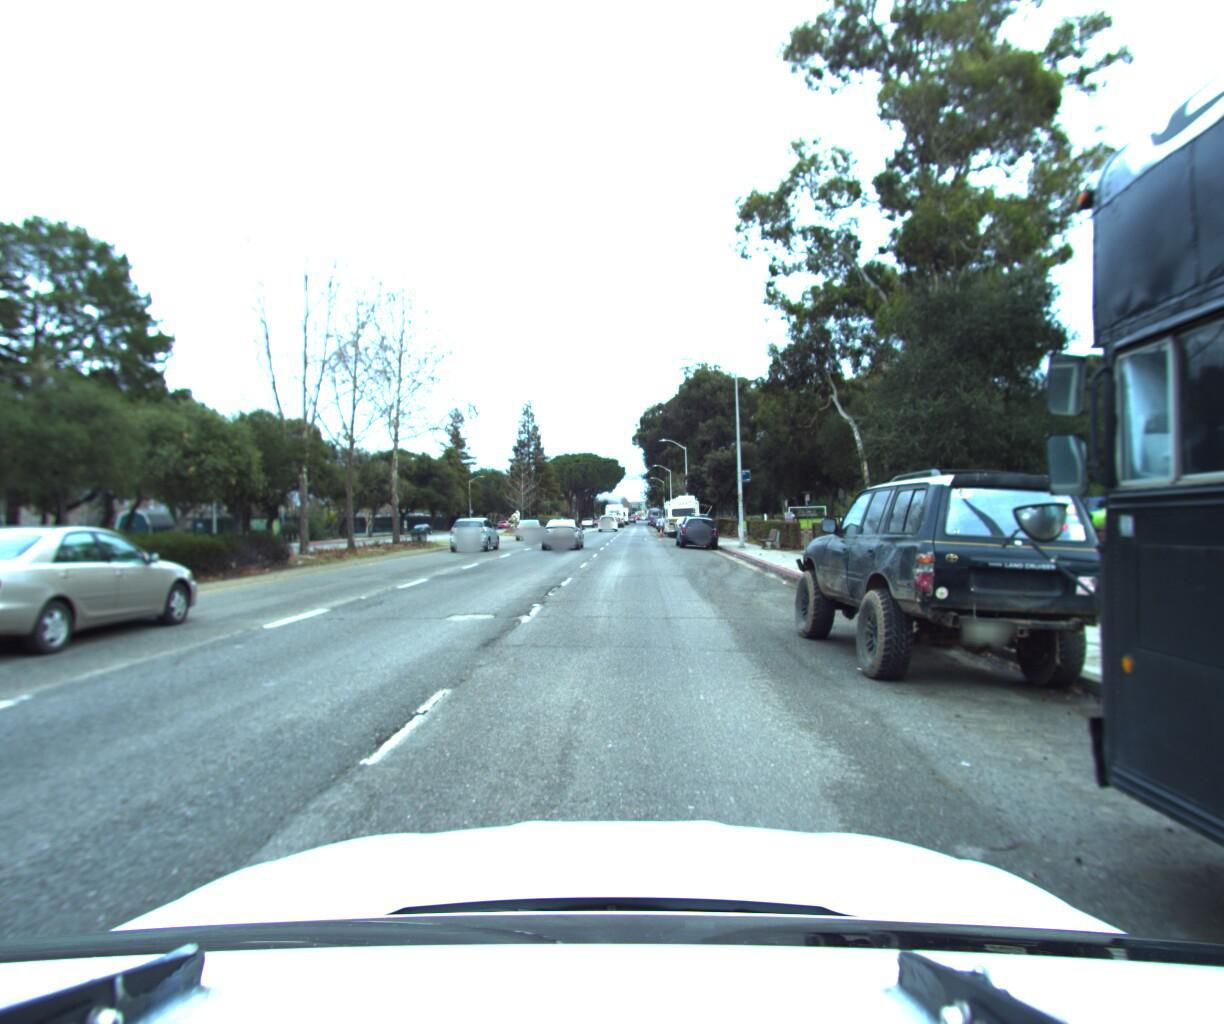car: (777, 453, 1144, 711), (444, 513, 504, 553), (673, 506, 722, 546), (537, 515, 586, 550), (512, 510, 549, 537), (600, 511, 620, 528)
other_vehicle: (661, 487, 703, 534)
